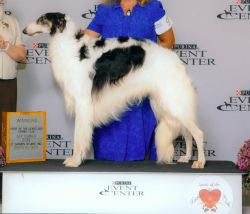borzoi: (21, 11, 208, 169)
